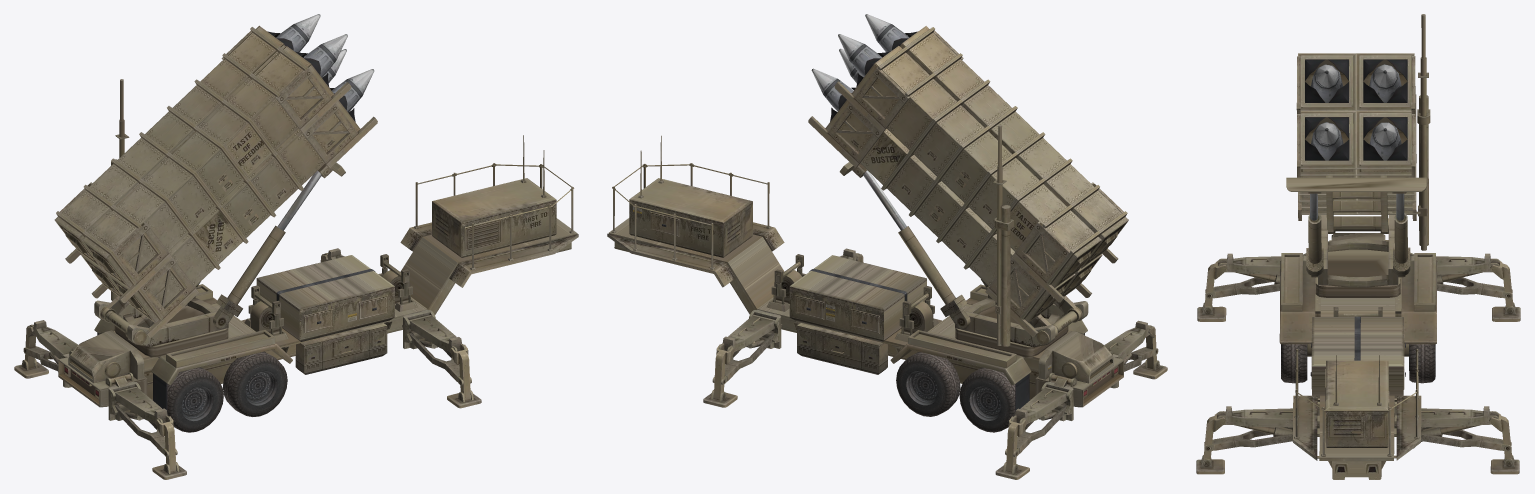
File: patriot.glb
3 renders of one model, left to right at view 1: azimuth 30°, elevation 25°; view 2: azimuth 150°, elevation 25°; view 3: azimuth 270°, elevation 25°, orthographic. The views are drawn at different scales.
Parts seen in each view (by area): view 1: Object_3, Object_2; view 2: Object_3, Object_2; view 3: Object_3, Object_2.
Boxes of the visible parts, left/top/right/bottom form: Object_3: left=14, top=14, right=578, bottom=479; Object_2: left=167, top=351, right=287, bottom=432; Object_3: left=607, top=14, right=1167, bottom=479; Object_2: left=896, top=352, right=1015, bottom=432; Object_3: left=1196, top=14, right=1520, bottom=479; Object_2: left=1281, top=344, right=1435, bottom=383.
Size of the model in its own units: 1022 by 697 by 561.
2 materials, 2 textured.
